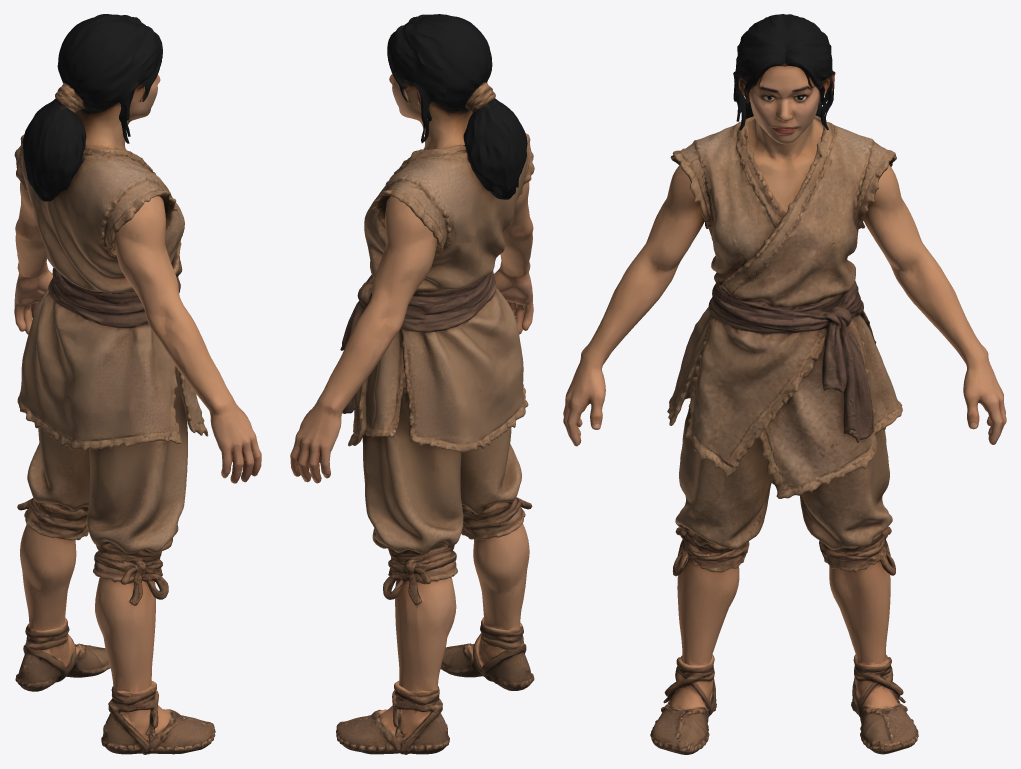
Rendered from standingGuide-v1.glb.
The picture shows the model from 3 angles, left to right: view 1: azimuth 30°, elevation 25°; view 2: azimuth 150°, elevation 25°; view 3: azimuth 270°, elevation 25°; orthographic projection. The views are drawn at different scales.
Visible parts, largest first — view 1: tripo_node_fc8372cb-f757-4fed-9ba9-4f8cbb2c1ff3; view 2: tripo_node_fc8372cb-f757-4fed-9ba9-4f8cbb2c1ff3; view 3: tripo_node_fc8372cb-f757-4fed-9ba9-4f8cbb2c1ff3.
Boxes of the visible parts, x1=… form: tripo_node_fc8372cb-f757-4fed-9ba9-4f8cbb2c1ff3: x1=14, y1=14, x2=261, y2=754; tripo_node_fc8372cb-f757-4fed-9ba9-4f8cbb2c1ff3: x1=290, y1=14, x2=534, y2=754; tripo_node_fc8372cb-f757-4fed-9ba9-4f8cbb2c1ff3: x1=563, y1=14, x2=1006, y2=754.
Bounding box in the file's own units: 0.2327 × 1 × 0.5635.
Materials: 1 (1 with a texture image).
